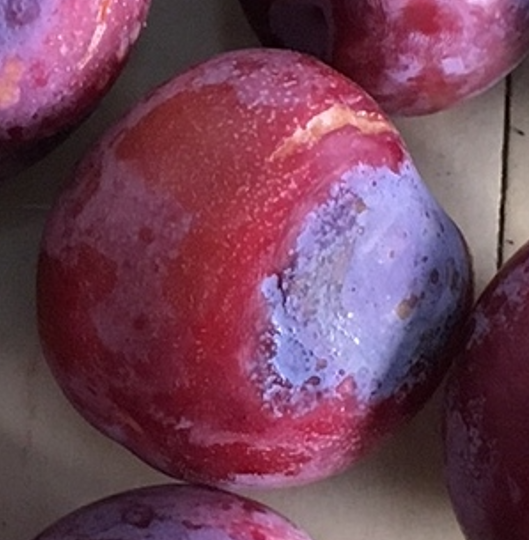plum_B: (38, 47, 476, 491)
